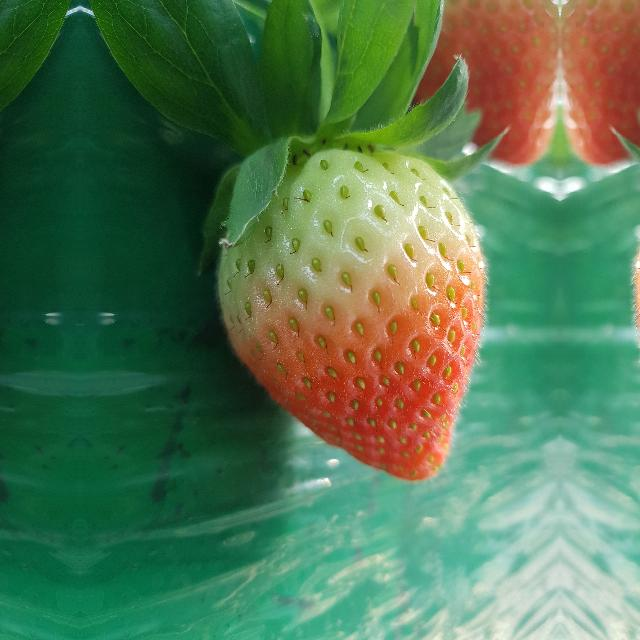Health_50: (214, 143, 486, 483)
